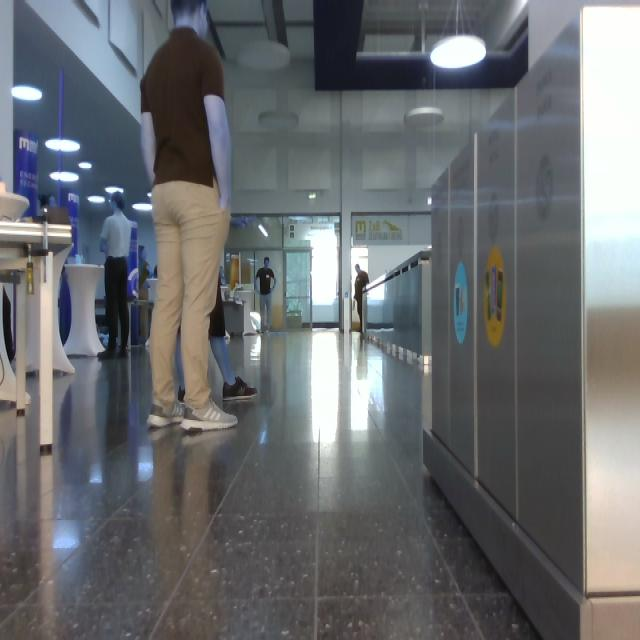door: (282, 217, 340, 329)
light bulb: (431, 36, 487, 69), (46, 138, 80, 153), (51, 172, 79, 182), (88, 196, 105, 202), (79, 162, 91, 170)
person: (142, 1, 238, 432), (101, 193, 131, 357), (256, 257, 276, 332)
table: (1, 184, 75, 453), (1, 221, 72, 454)
tiled floor: (1, 333, 537, 640)
trash bin: (425, 8, 640, 640)
